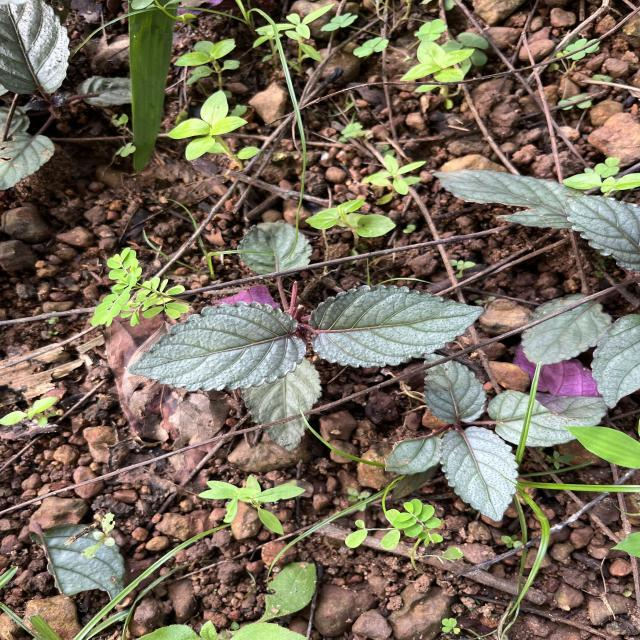Hemigraphis colorata: (125, 300, 309, 394), (307, 283, 488, 371), (436, 424, 521, 523), (486, 388, 609, 448), (0, 0, 72, 96), (561, 192, 640, 275), (420, 350, 489, 426), (589, 312, 640, 410)
